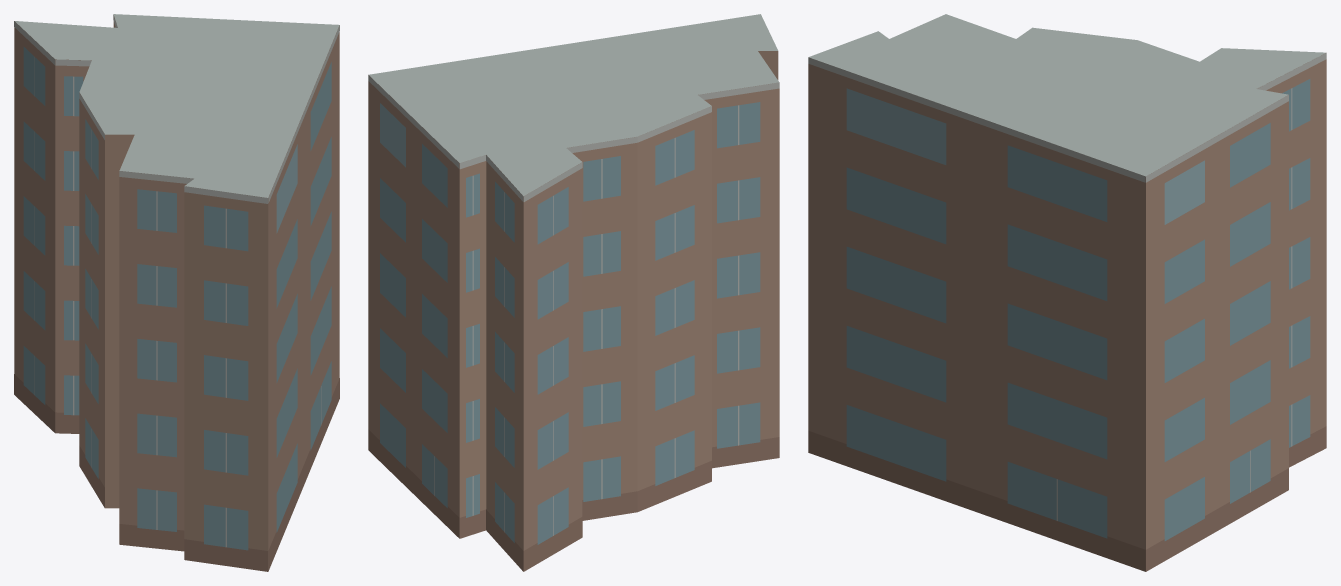
Rendered from survey-upis-32491580.glb.
3 views of the same model, side by side, from view 1: azimuth 30°, elevation 25°; view 2: azimuth 150°, elevation 25°; view 3: azimuth 270°, elevation 25° (orthographic). The views are drawn at different scales.
Visible parts, largest first — view 1: survey-upis-32491580.tmp; view 2: survey-upis-32491580.tmp; view 3: survey-upis-32491580.tmp.
Part boxes in pixels (x1,y1,x2,y2): survey-upis-32491580.tmp: (14,14,339,571); survey-upis-32491580.tmp: (368,14,779,571); survey-upis-32491580.tmp: (808,14,1326,571).
Bounding box in the file's own units: 13.22 × 15 × 17.83.
